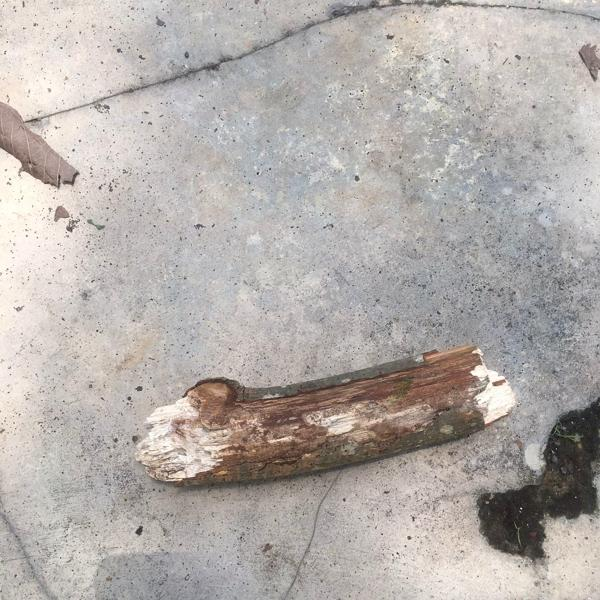Organik: (111, 331, 531, 499)
